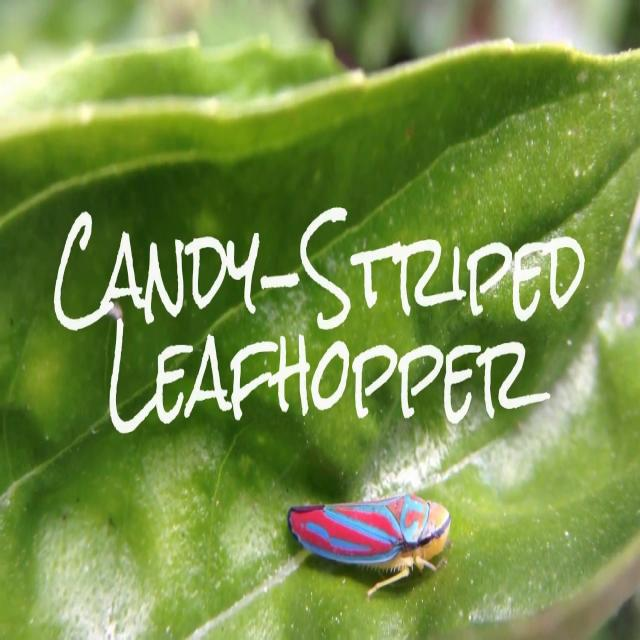Yechan: (283, 480, 471, 596)
